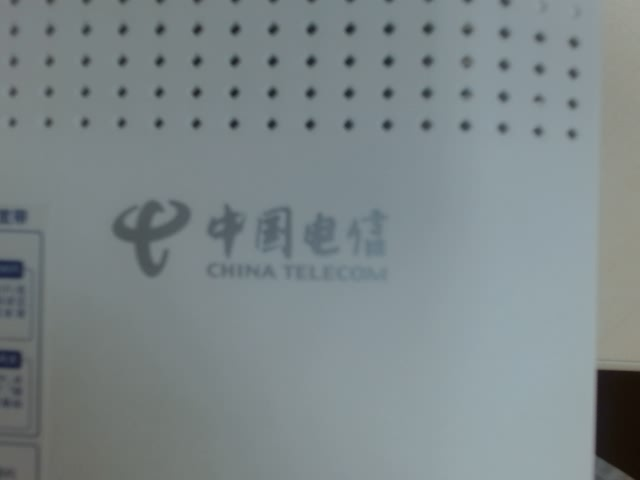ChinaTelecom1: (95, 173, 412, 299)
